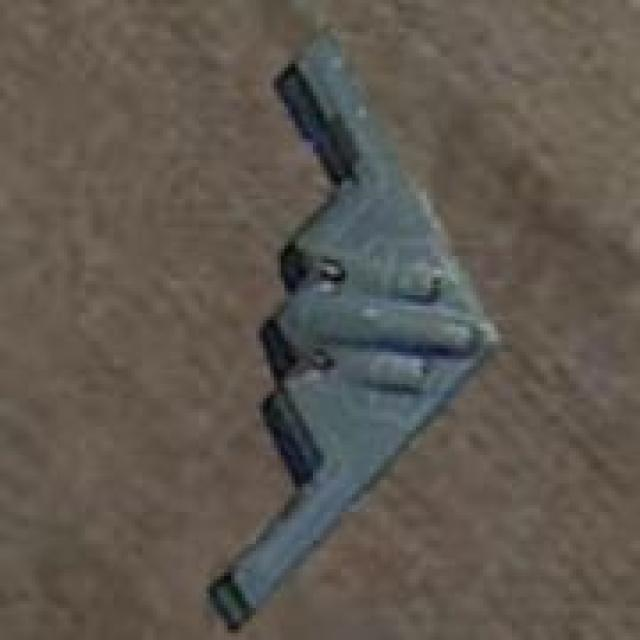B-2_TopDown: (199, 21, 505, 630)
